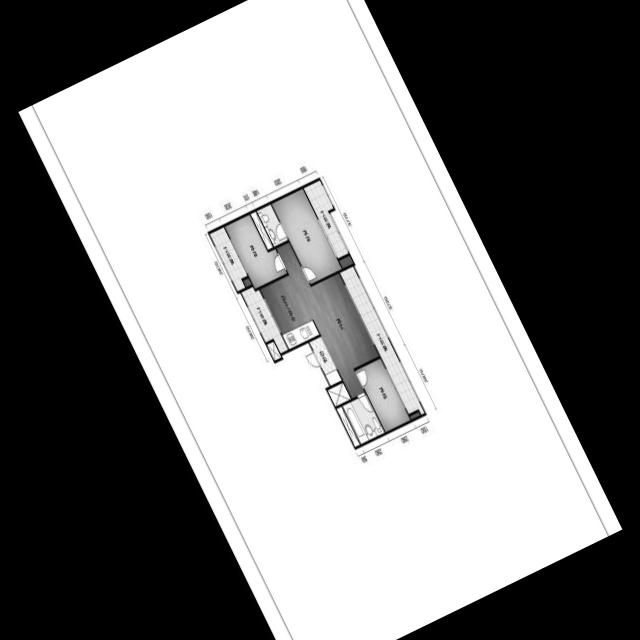background: (18, 0, 622, 640)
space_balconi: (339, 265, 424, 414), (303, 179, 348, 257), (241, 285, 288, 352), (209, 226, 247, 290)
space_bedroom: (271, 187, 341, 283), (224, 213, 287, 288), (355, 357, 410, 431)
space_front: (309, 335, 341, 385)
space_kitchen: (259, 274, 319, 348)
space_living_room: (276, 241, 379, 397)
space_other: (336, 405, 360, 446), (250, 210, 273, 249), (327, 381, 350, 406), (266, 340, 281, 360), (338, 254, 353, 267), (409, 411, 420, 419), (243, 277, 251, 286)
space_toilet: (342, 393, 384, 443), (256, 203, 288, 246)
